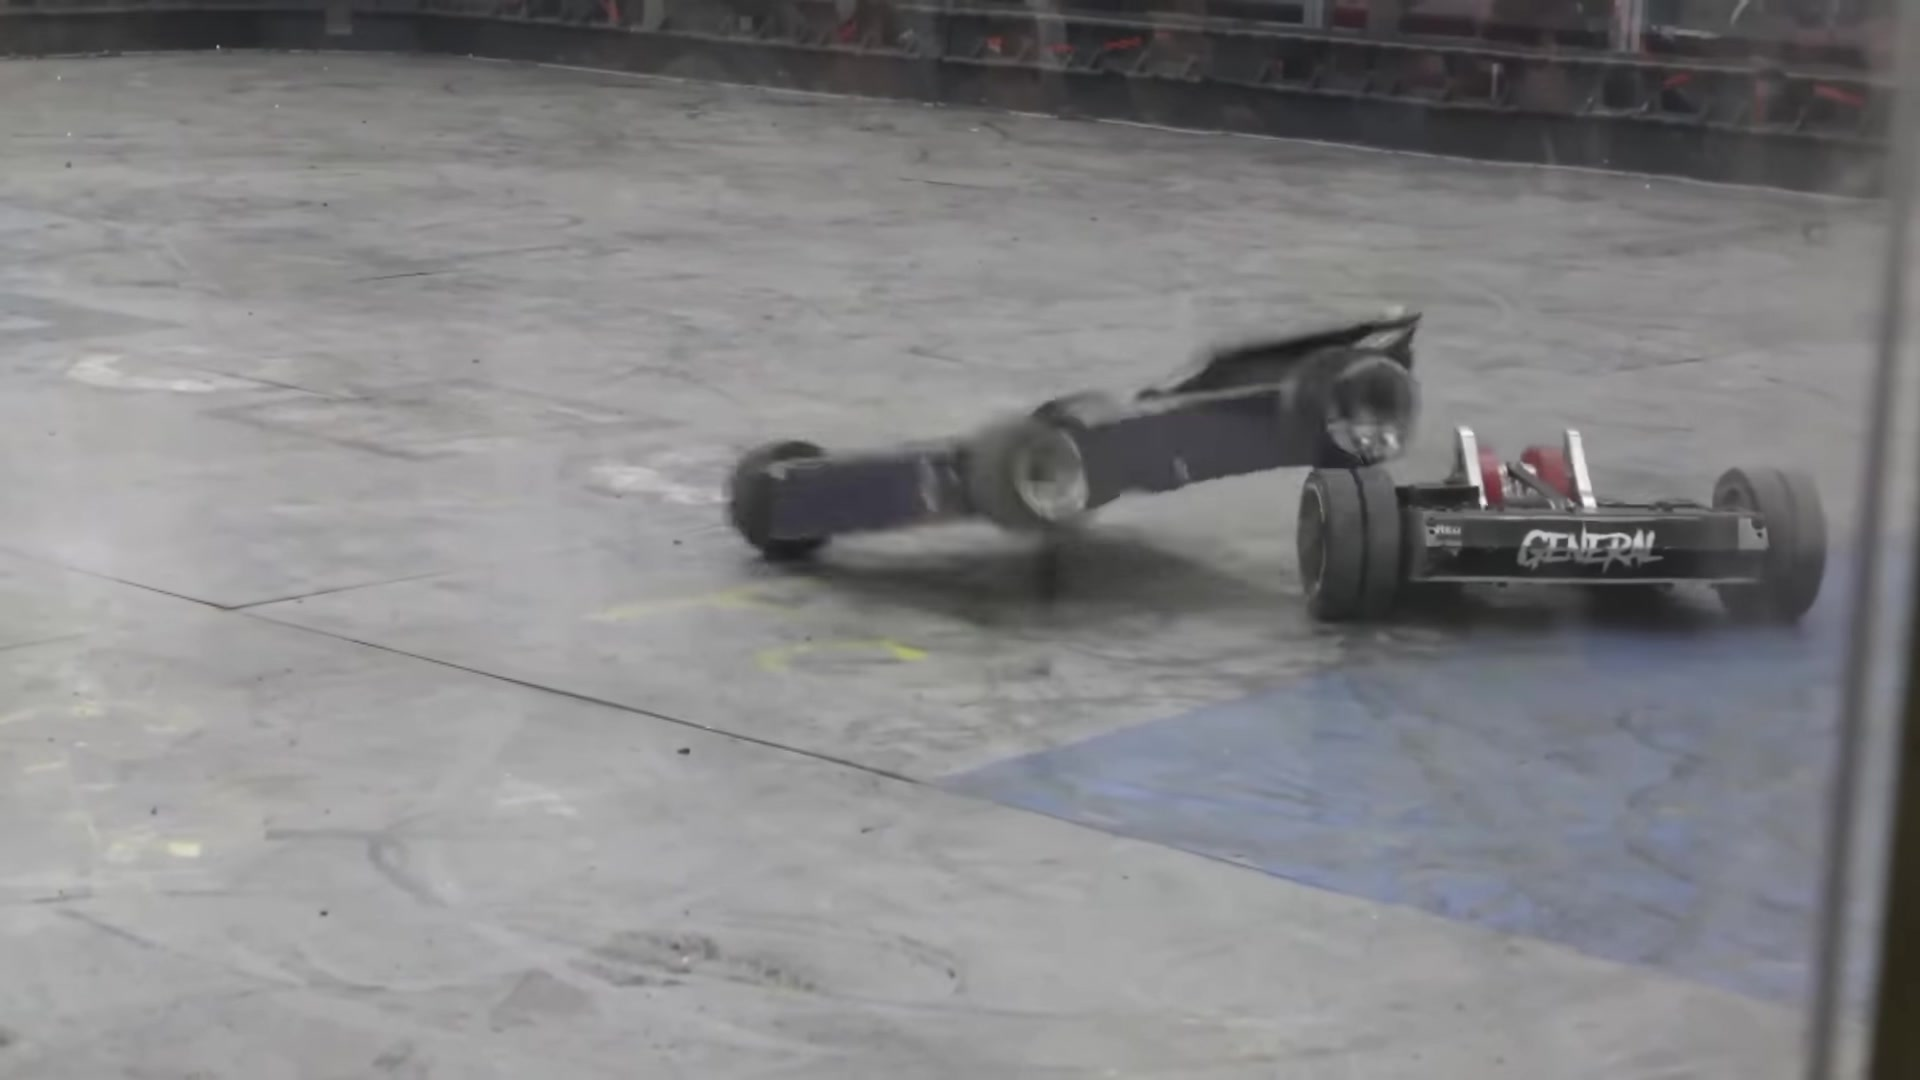combatbot: (732, 311, 1415, 558), (1299, 430, 1822, 630)
